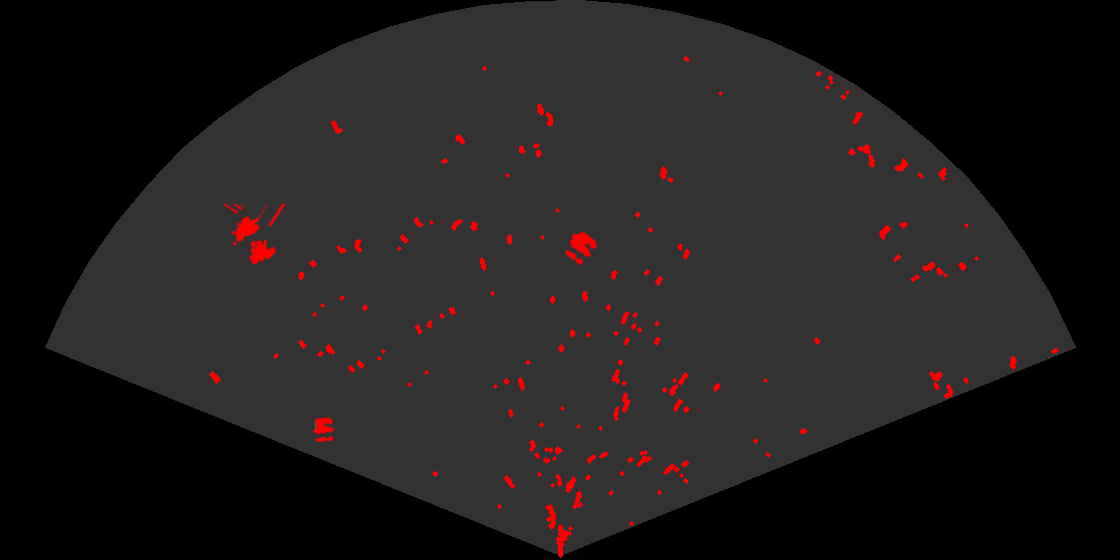ball: (563, 230, 599, 267), (311, 416, 336, 444)
cage: (221, 204, 288, 266)
